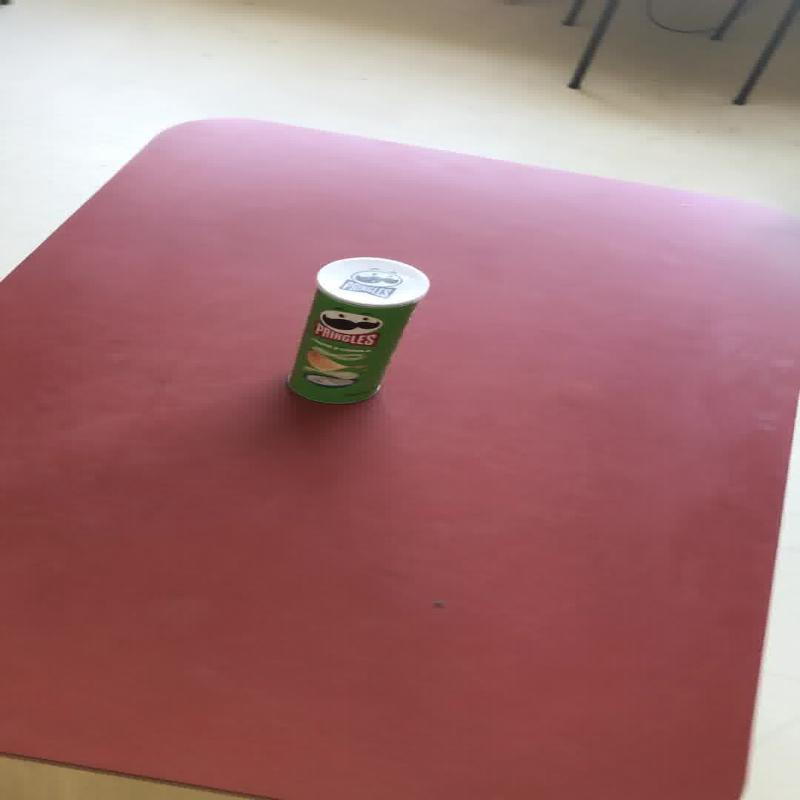pringles: (284, 254, 429, 404)
